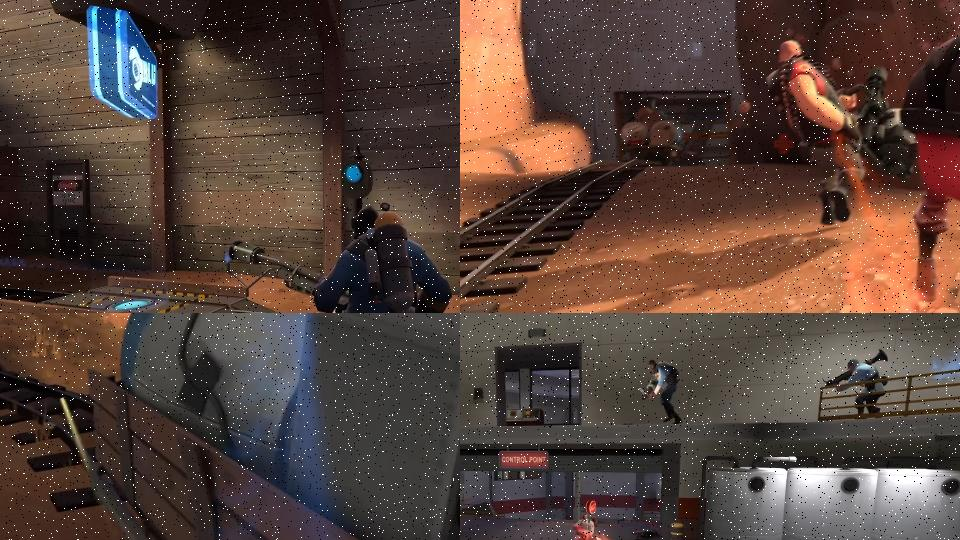Enemy: (761, 36, 922, 227), (221, 199, 454, 313), (883, 6, 960, 313), (821, 346, 889, 421), (633, 357, 696, 426), (570, 511, 607, 540)
